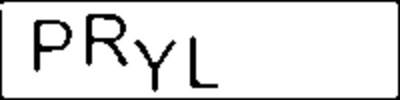L: (184, 32, 226, 93)
P: (28, 15, 73, 75)
R: (83, 11, 133, 72)
Y: (132, 38, 177, 92)
